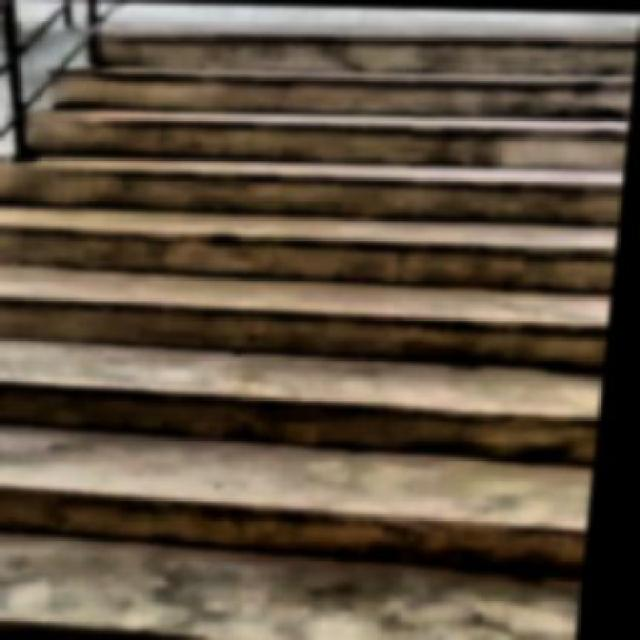stair: (0, 16, 637, 638)
